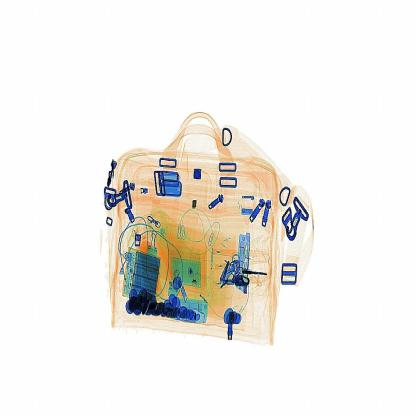wrench: (187, 195, 201, 214)
